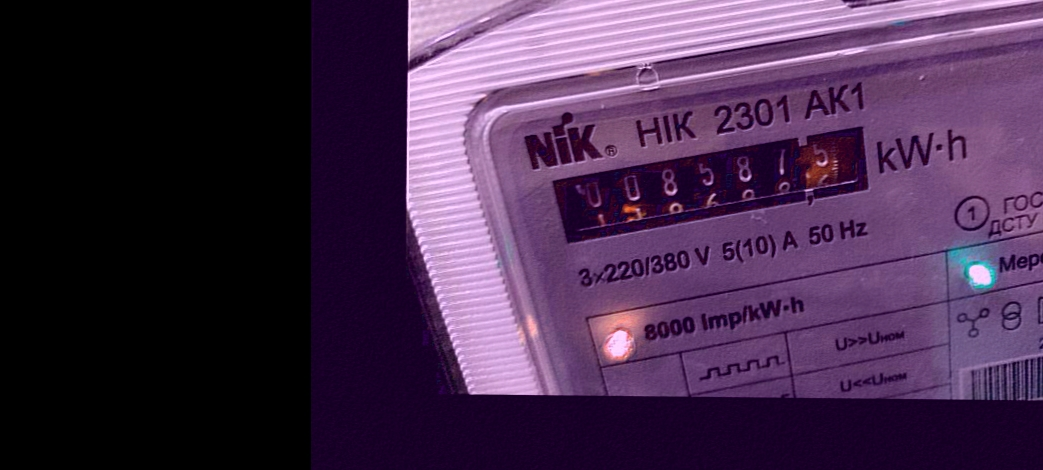0: (619, 170, 646, 204), (581, 177, 608, 210)
5: (696, 158, 719, 189), (810, 137, 832, 168)
6: (815, 172, 833, 189)
7: (771, 145, 793, 180)
8: (659, 166, 683, 198), (733, 152, 756, 185)
screen: (544, 123, 892, 249)
